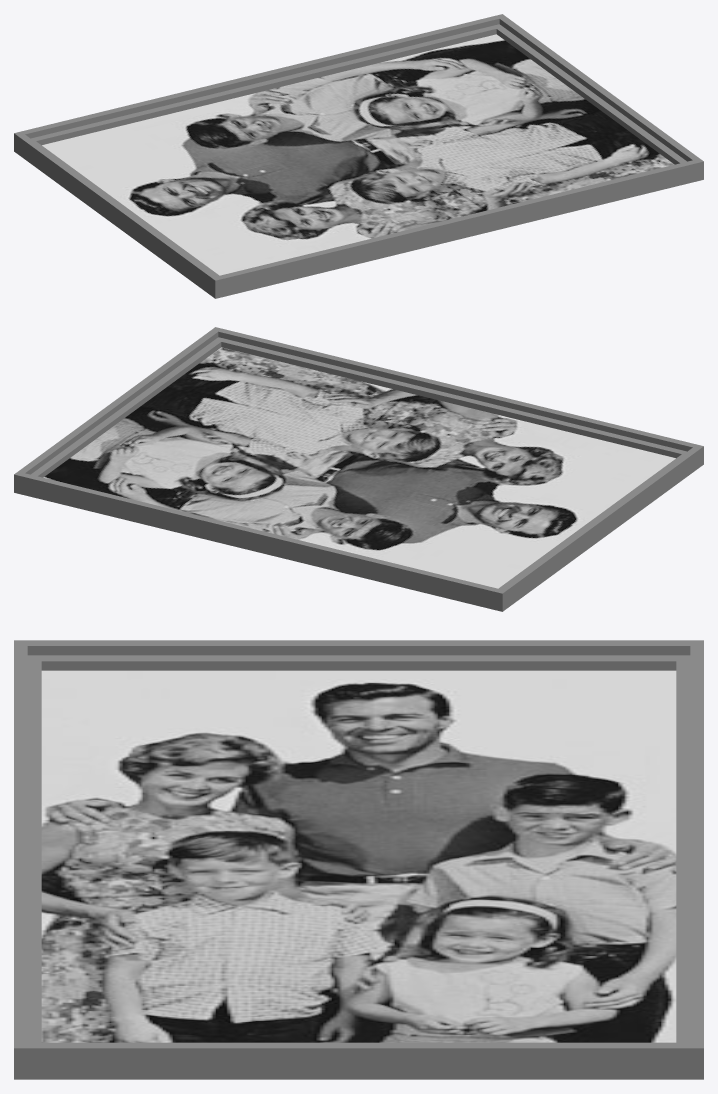
The model's file is painting02.FBX.
3 views of the same model, one above another, from view 1: azimuth 30°, elevation 25°; view 2: azimuth 150°, elevation 25°; view 3: azimuth 270°, elevation 25° (orthographic). The views are drawn at different scales.
Visible parts, largest first — view 1: Box001; view 2: Box001; view 3: Box001.
Boxes of the visible parts, bbox=[...] form: Box001: bbox=[14, 14, 703, 298]; Box001: bbox=[14, 327, 703, 611]; Box001: bbox=[14, 640, 703, 1079].
Bounding box in the file's own units: 70 × 50 × 2.5.
Materials: 7 (1 with a texture image).
